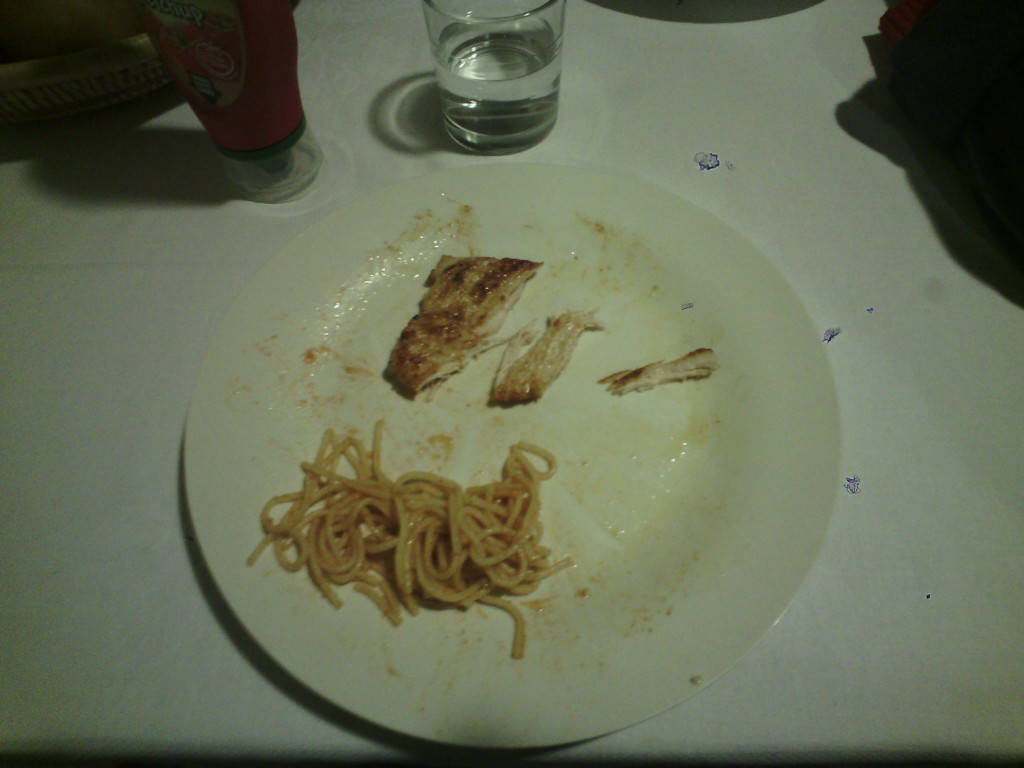21-40: (192, 169, 839, 751)
